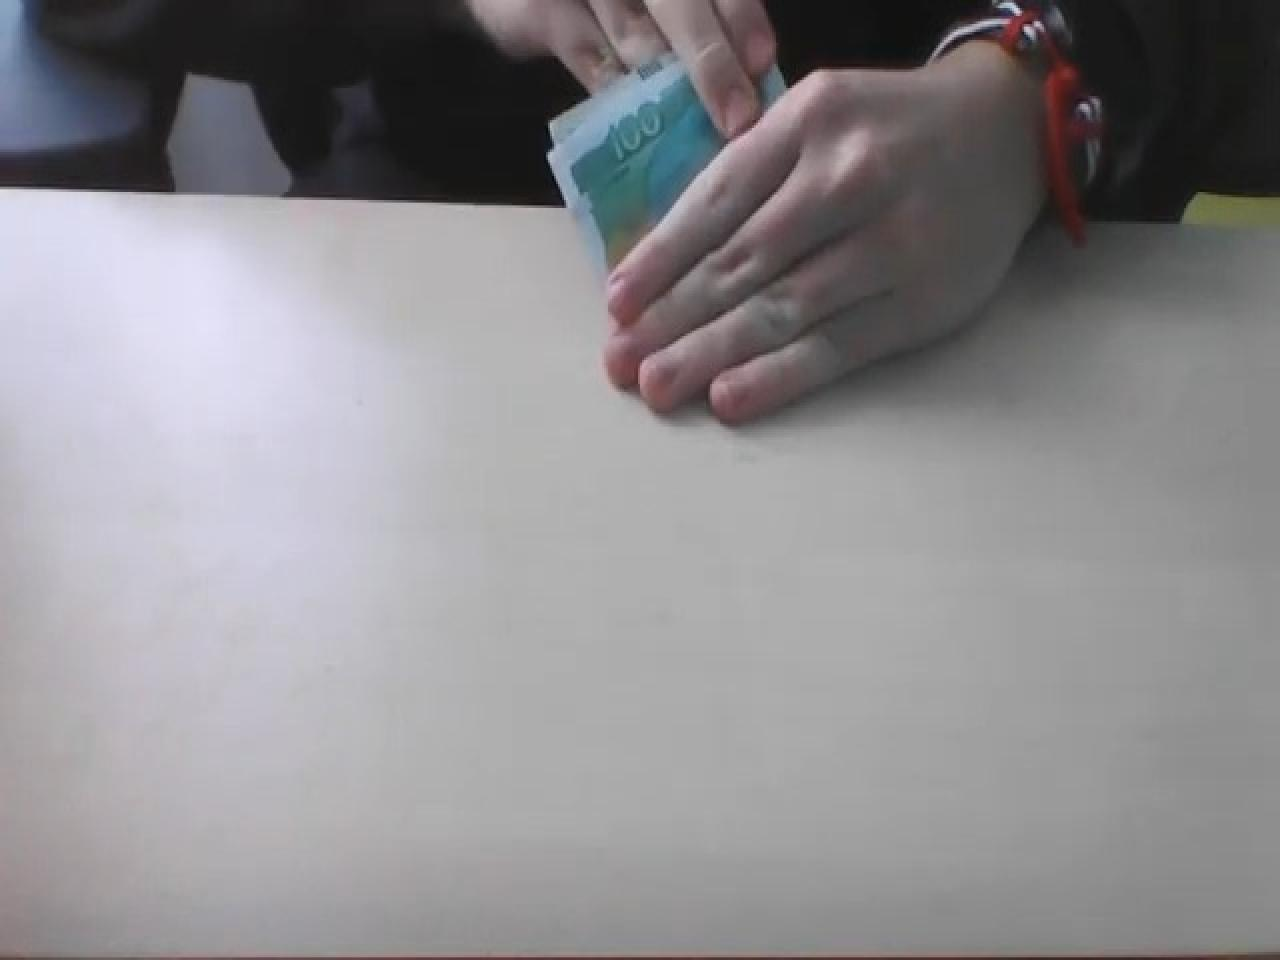100leva: (546, 56, 730, 272)
